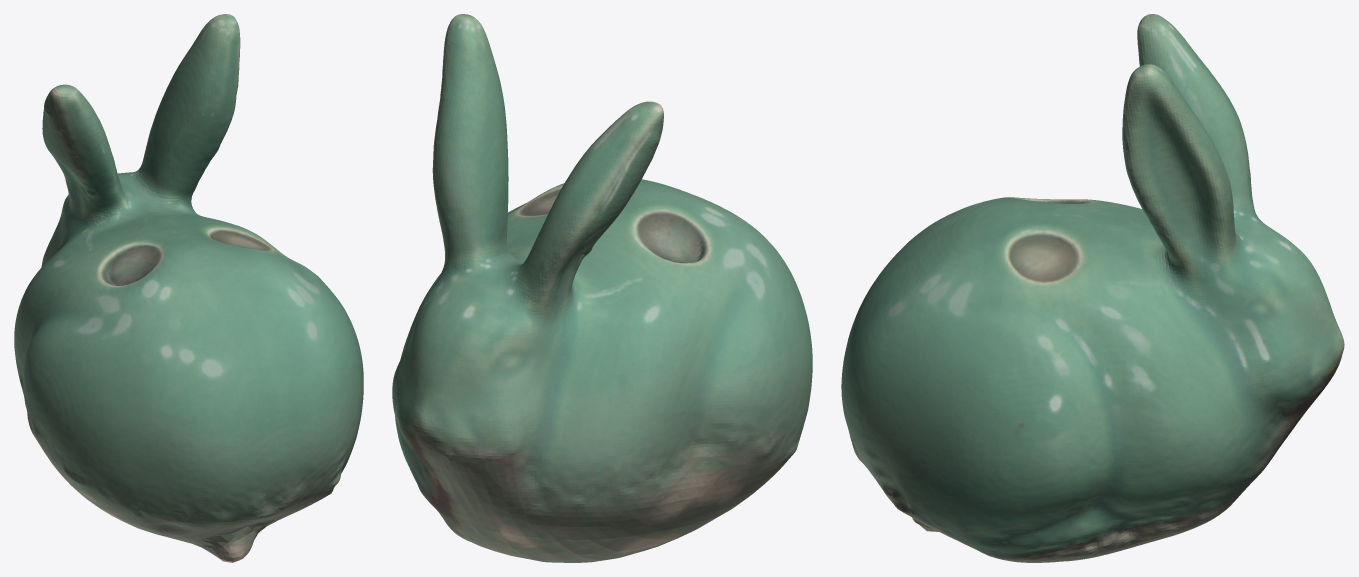
File: Bunny.glb
3 renders of one model, left to right at view 1: azimuth 30°, elevation 25°; view 2: azimuth 150°, elevation 25°; view 3: azimuth 270°, elevation 25°, orthographic. The views are drawn at different scales.
Parts seen in each view (by area): view 1: Sharp fusion 1; view 2: Sharp fusion 1; view 3: Sharp fusion 1.
Boxes of the visible parts, x1,y1,x2,y2 form: Sharp fusion 1: (14, 14, 363, 562); Sharp fusion 1: (392, 14, 812, 562); Sharp fusion 1: (841, 14, 1344, 562).
Bounding box in the file's own units: 0.1334 × 0.196 × 0.174.
1 material, 1 textured.
